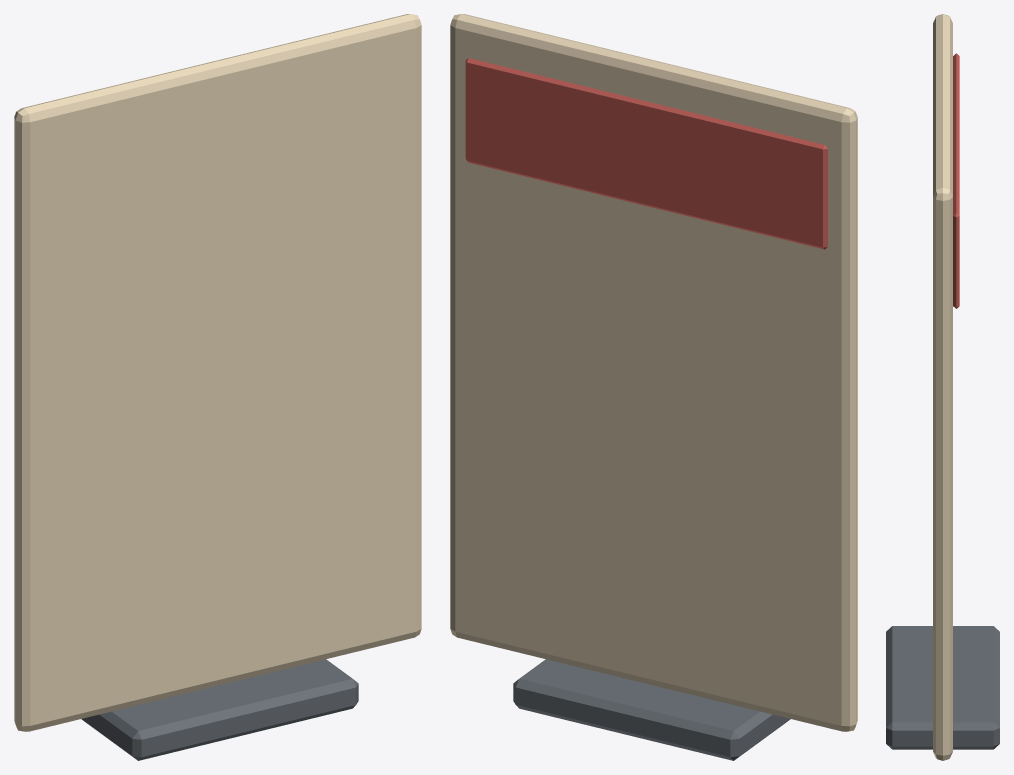
Rendered from TarjetaPropiedad.fbx.
The picture shows the model from 3 angles, left to right: view 1: azimuth 30°, elevation 25°; view 2: azimuth 150°, elevation 25°; view 3: azimuth 270°, elevation 25°; orthographic projection. The views are drawn at different scales.
Visible parts, largest first — view 1: CardBody, CardStand; view 2: CardBody, ColorHeader, CardStand; view 3: CardBody, CardStand, ColorHeader.
Part boxes in pixels (box(x1,y1,x2,y2)): CardBody: box(14, 14, 421, 731); CardStand: box(81, 659, 358, 760); CardBody: box(450, 14, 857, 731); ColorHeader: box(465, 58, 827, 249); CardStand: box(513, 659, 790, 760); CardBody: box(933, 14, 952, 760); CardStand: box(886, 626, 999, 749); ColorHeader: box(953, 53, 959, 308).
Size of the model in its own units: 1.7 by 2.62 by 0.45.
